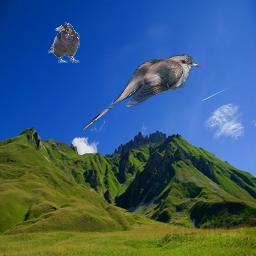Crow: (48, 22, 80, 63)
Cuckoo: (82, 54, 201, 131)
